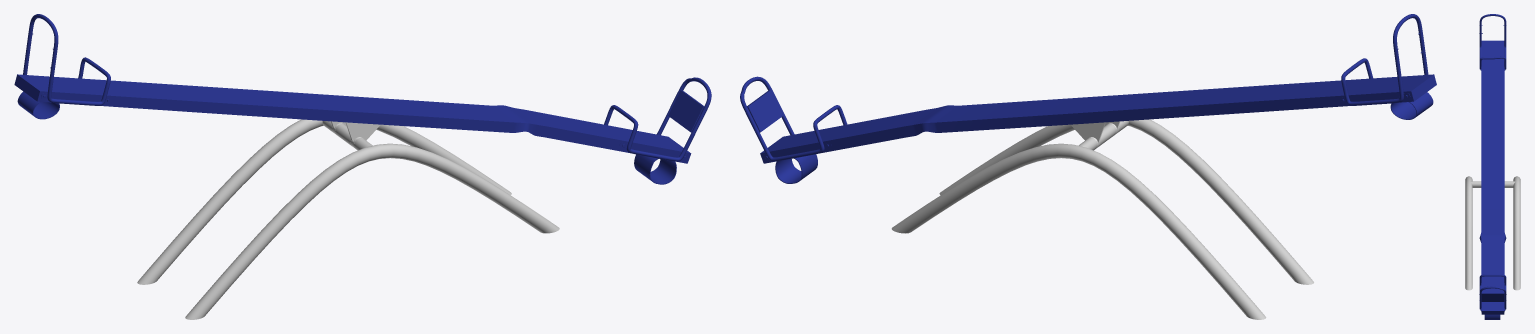
The model's file is Wip.fbx.
3 views of the same model, side by side, from view 1: azimuth 30°, elevation 25°; view 2: azimuth 150°, elevation 25°; view 3: azimuth 270°, elevation 25° (orthographic). The views are drawn at different scales.
Visible parts, largest first — view 1: Plane, Old Playground Item: Seesaw, NurbsPath.004; view 2: Plane, Old Playground Item: Seesaw, NurbsPath.004; view 3: Plane, Old Playground Item: Seesaw.
Part boxes in pixels (x1,y1,x2,y2): Plane: (14,14,711,184); Old Playground Item: Seesaw: (137,119,559,319); NurbsPath.004: (331,121,380,148); Plane: (740,14,1436,183); Old Playground Item: Seesaw: (891,119,1313,319); NurbsPath.004: (1071,121,1120,148); Plane: (1479,14,1506,319); Old Playground Item: Seesaw: (1465,176,1520,290).
Size of the model in its own units: 378 by 166 by 53.19.
